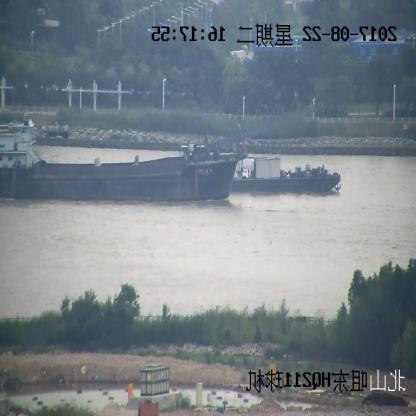Bulk Carrier: (0, 100, 324, 202), (223, 152, 341, 194)
